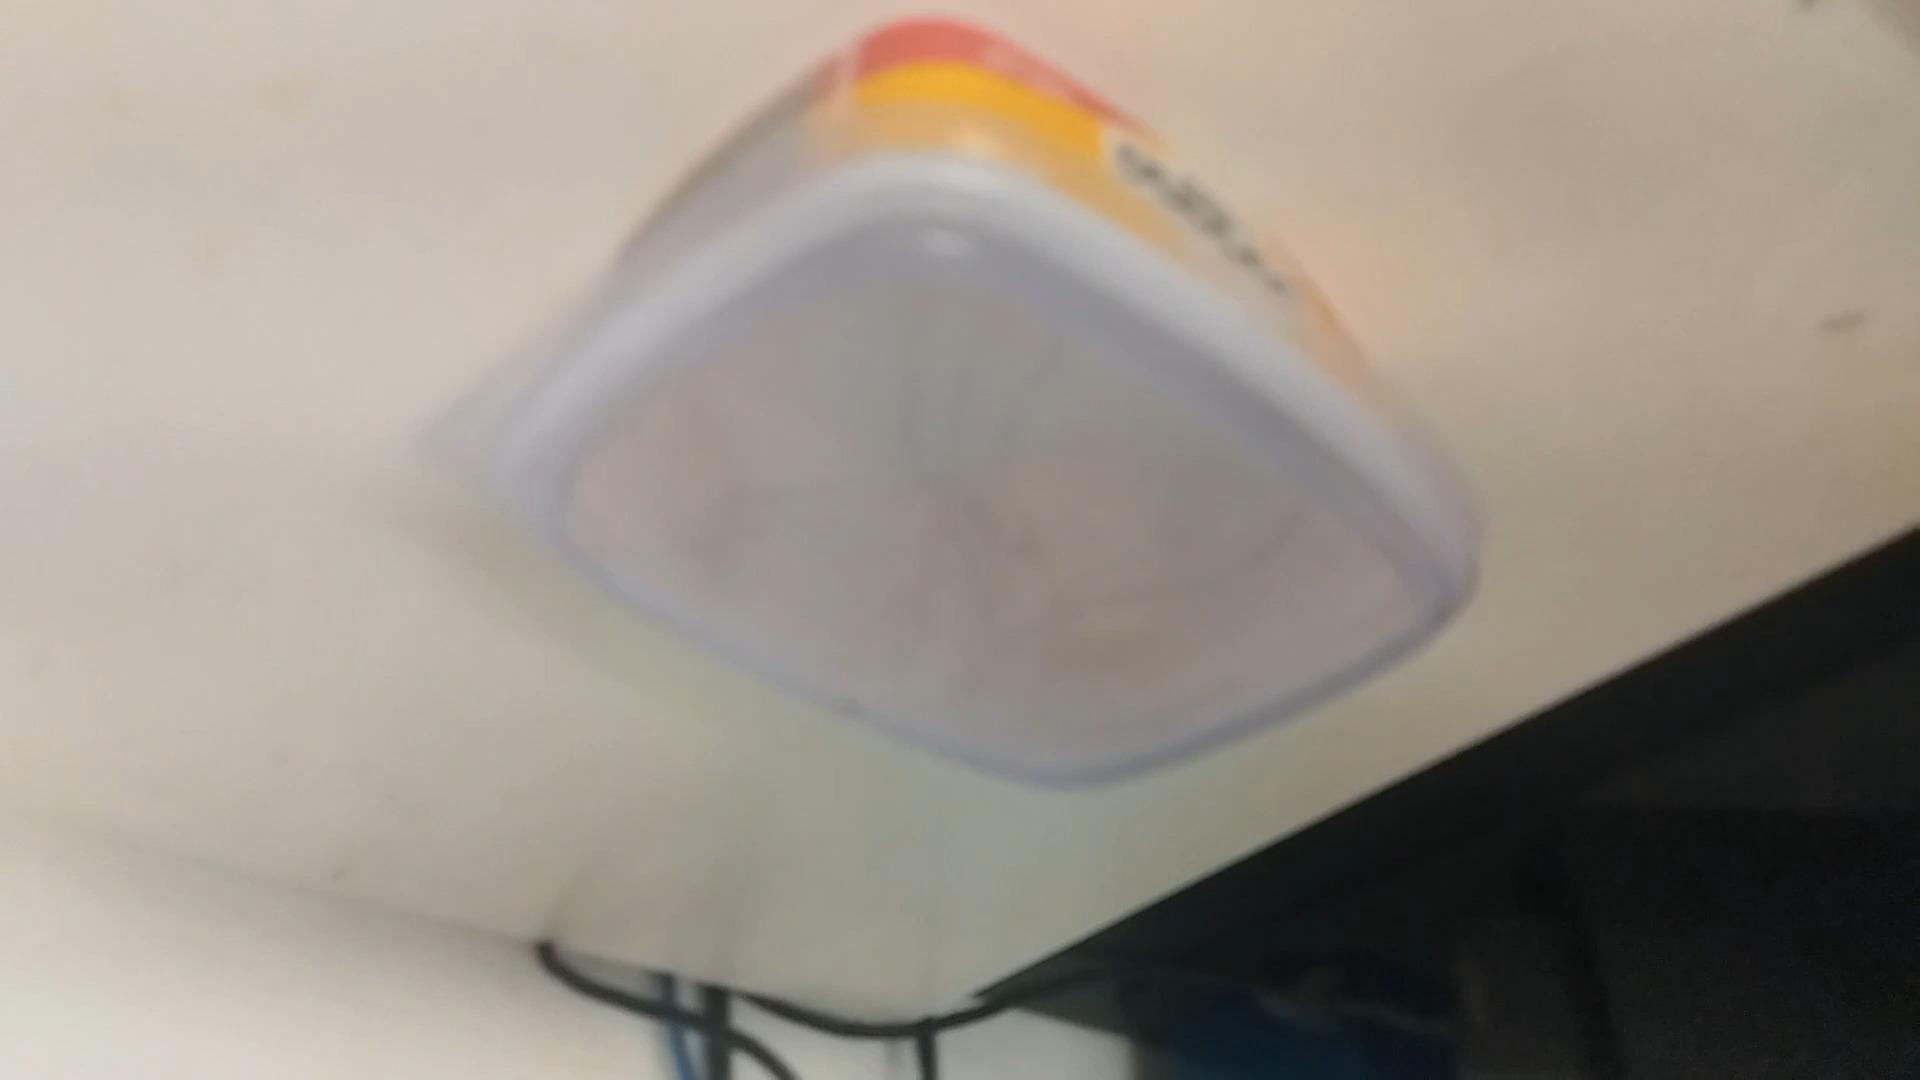butter: (434, 28, 1482, 798)
